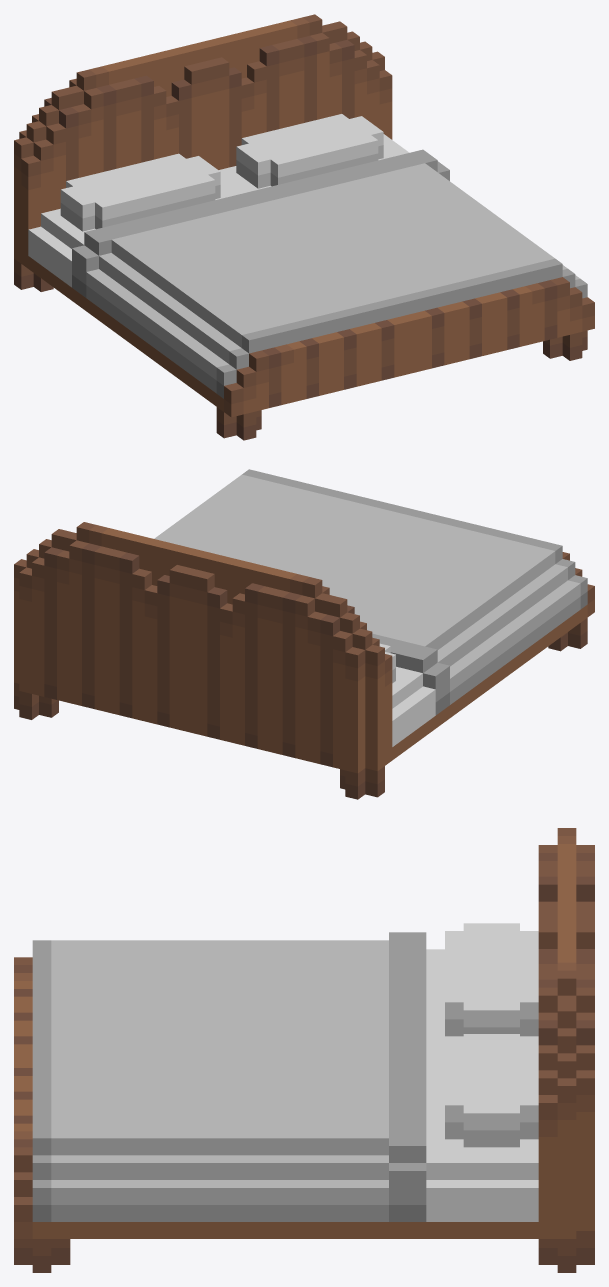
File: Interior_Furniture_Bed_Double_02.obj
3 renders of one model, top to bottom at view 1: azimuth 30°, elevation 25°; view 2: azimuth 150°, elevation 25°; view 3: azimuth 270°, elevation 25°, orthographic. The views are drawn at different scales.
Size of the model in its own units: 2.9 by 1.5 by 3.1.
1 material, 1 textured.
